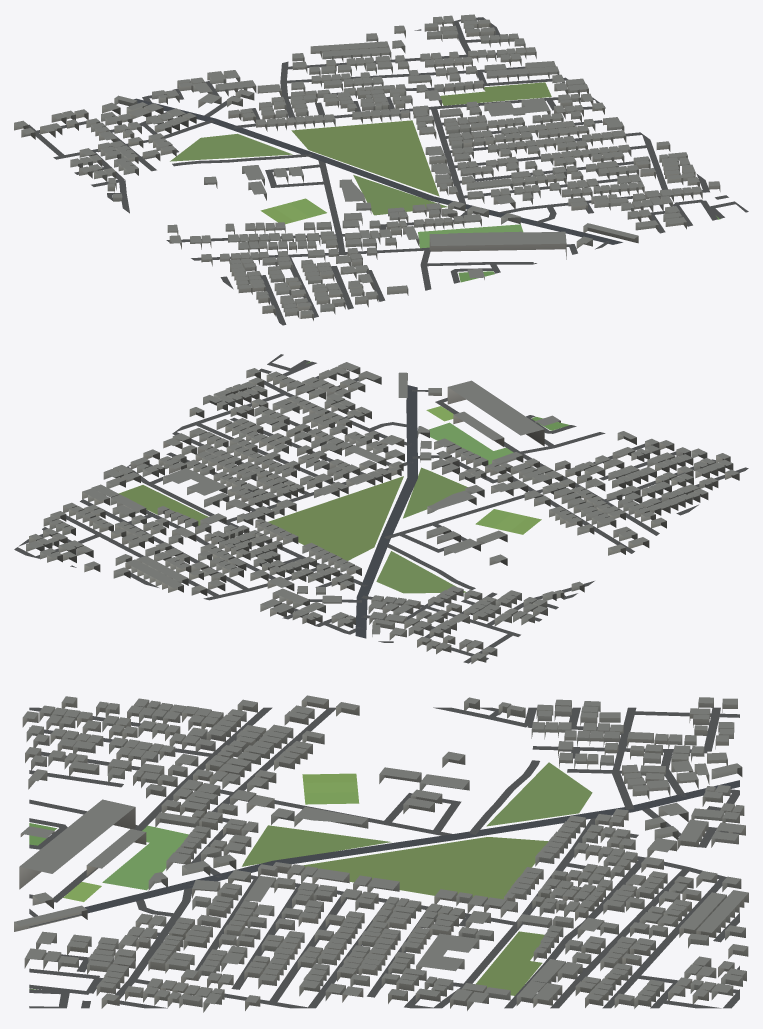
3 views of the same model, one above another, from view 1: azimuth 30°, elevation 25°; view 2: azimuth 150°, elevation 25°; view 3: azimuth 270°, elevation 25° (orthographic). The views are drawn at different scales.
Visible parts, largest first — view 1: building, ground; view 2: building, ground; view 3: building, ground.
Boxes of the visible parts, x1,y1,x2,y2 form: building: [14, 14, 720, 320]; ground: [24, 17, 748, 325]; building: [26, 362, 739, 663]; ground: [14, 354, 748, 663]; building: [14, 695, 748, 1012]; ground: [29, 707, 739, 1008].
Bounding box in the file's own units: 514 × 18 × 517.
